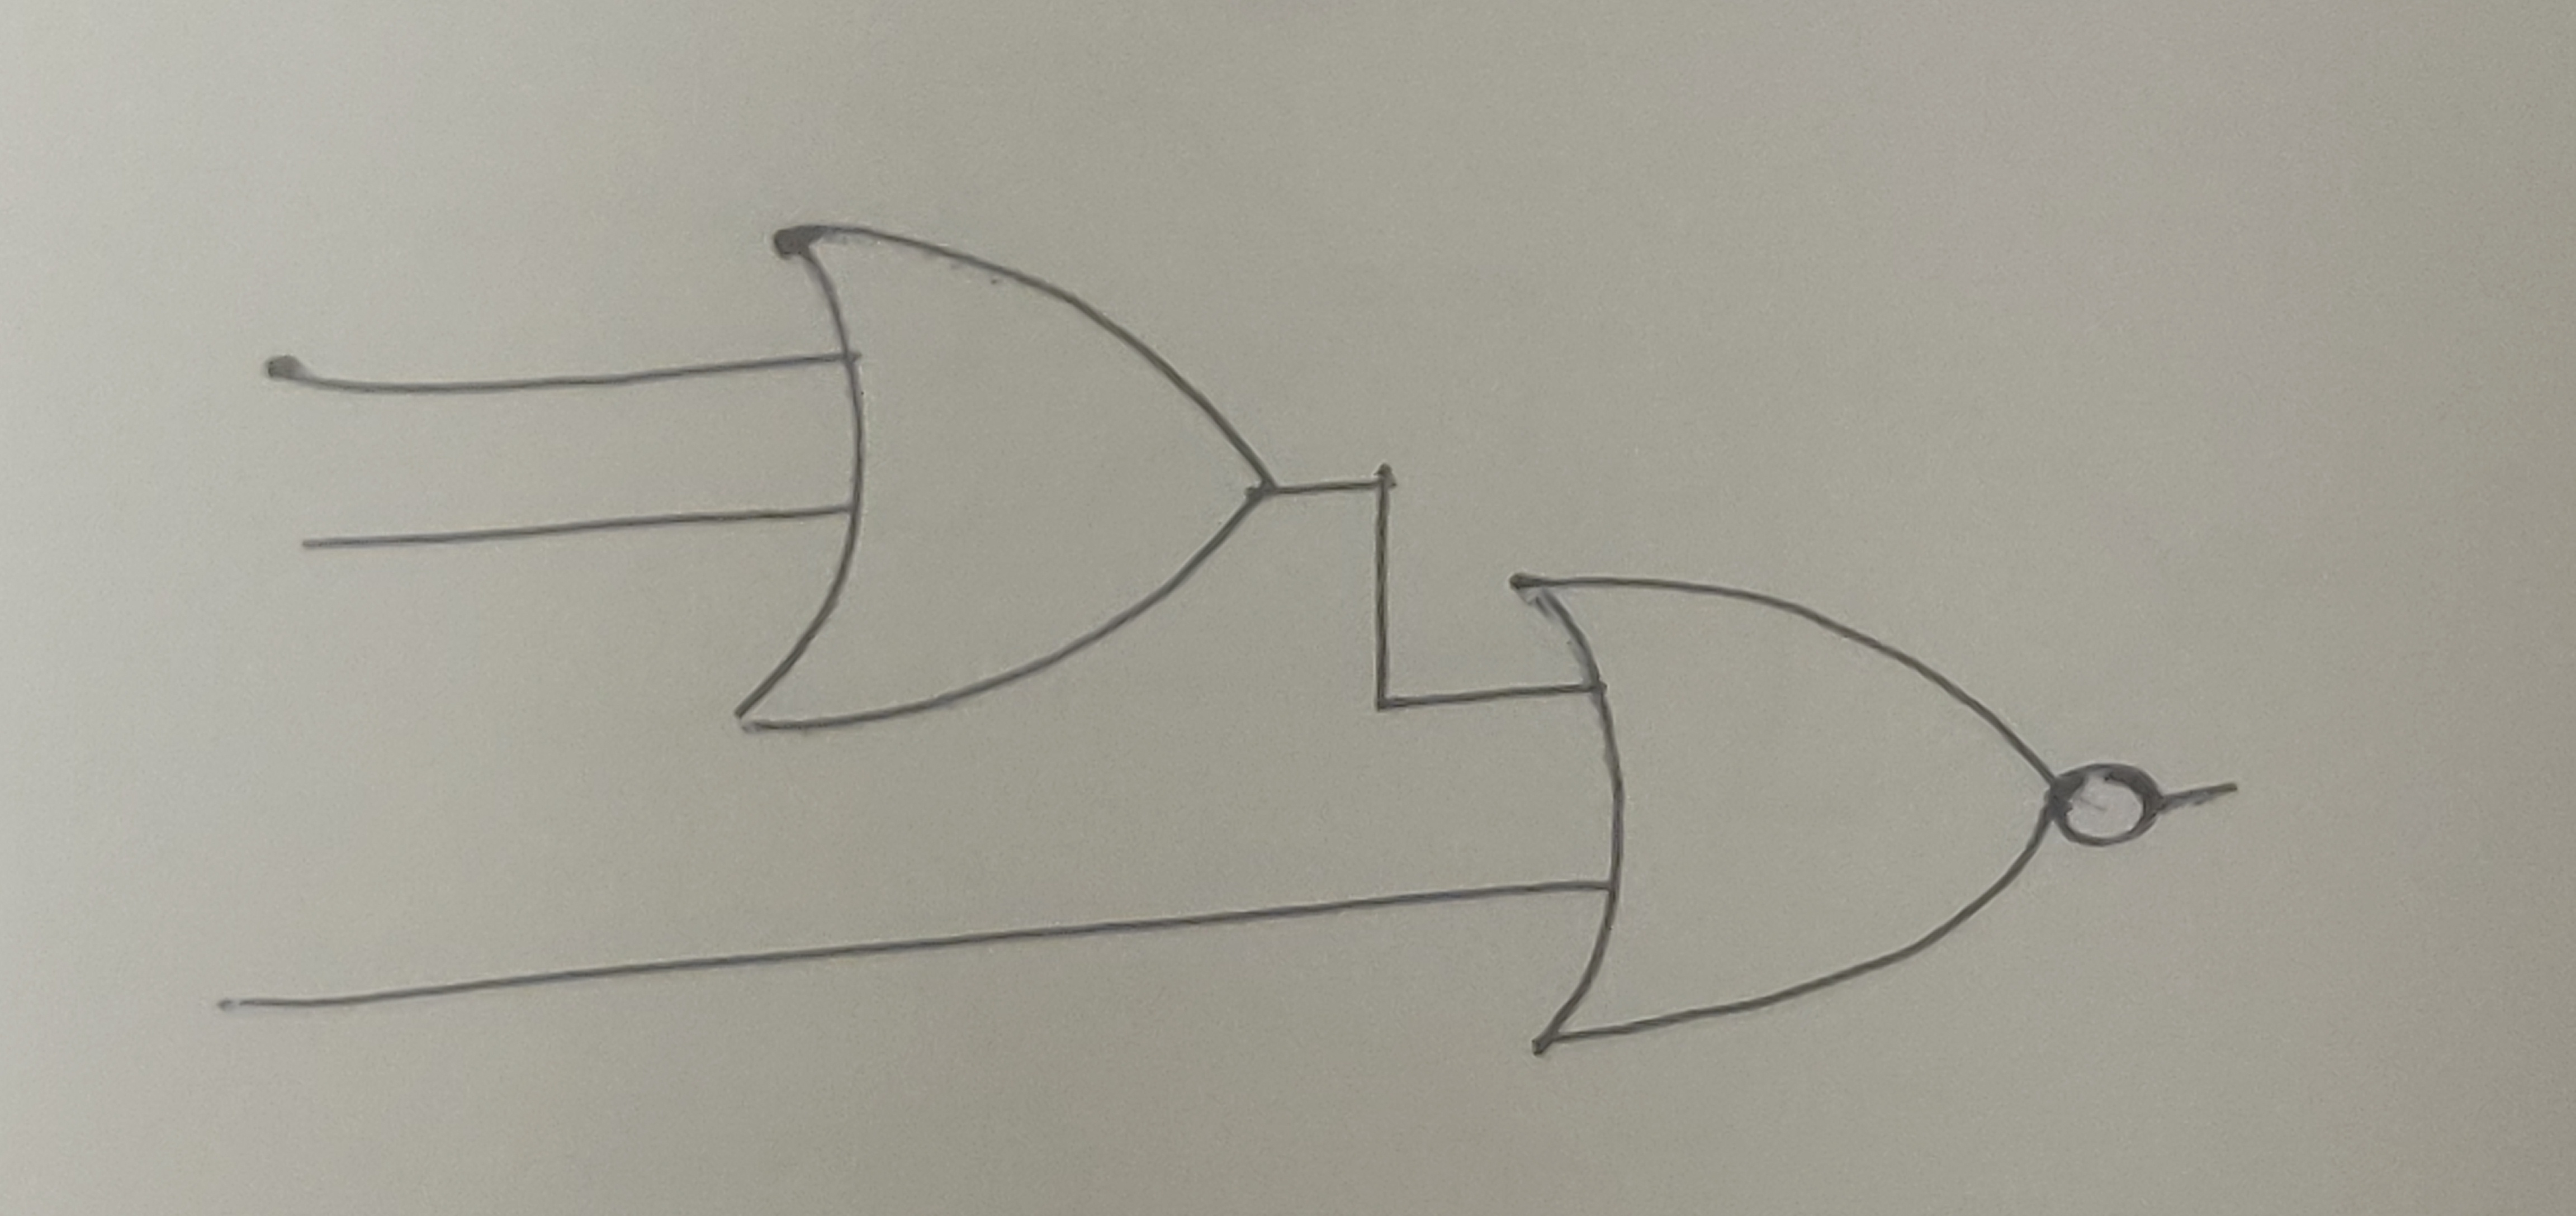not: (2050, 756, 2169, 854)
or: (726, 220, 1278, 743), (1498, 569, 2067, 1052)
